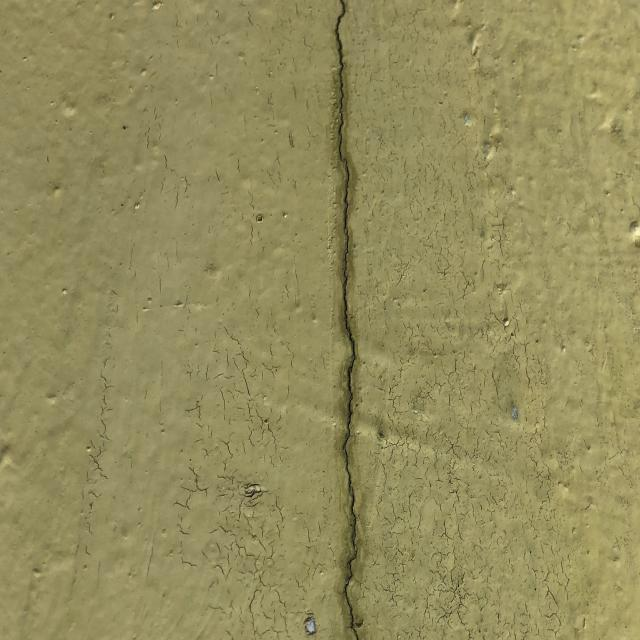SurfaceCrack: (274, 0, 409, 639)
